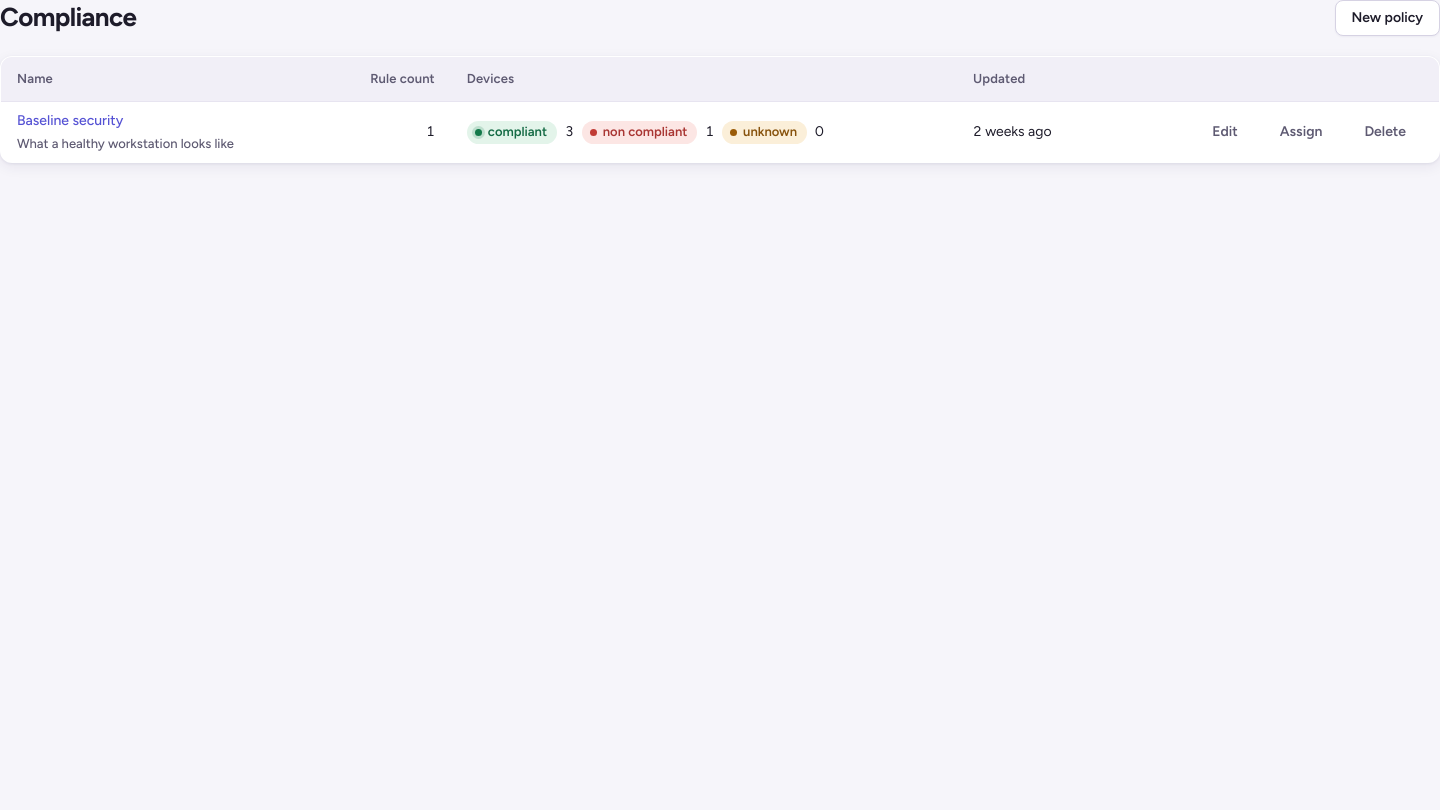
Test: Compliance › keeps a successful save when the re-evaluation fails
Expected: the button "Baseline security" is shown, [17,110,123,132]
Click the button "Edit". click: (1225, 132)
box: [1195,114,1255,150]
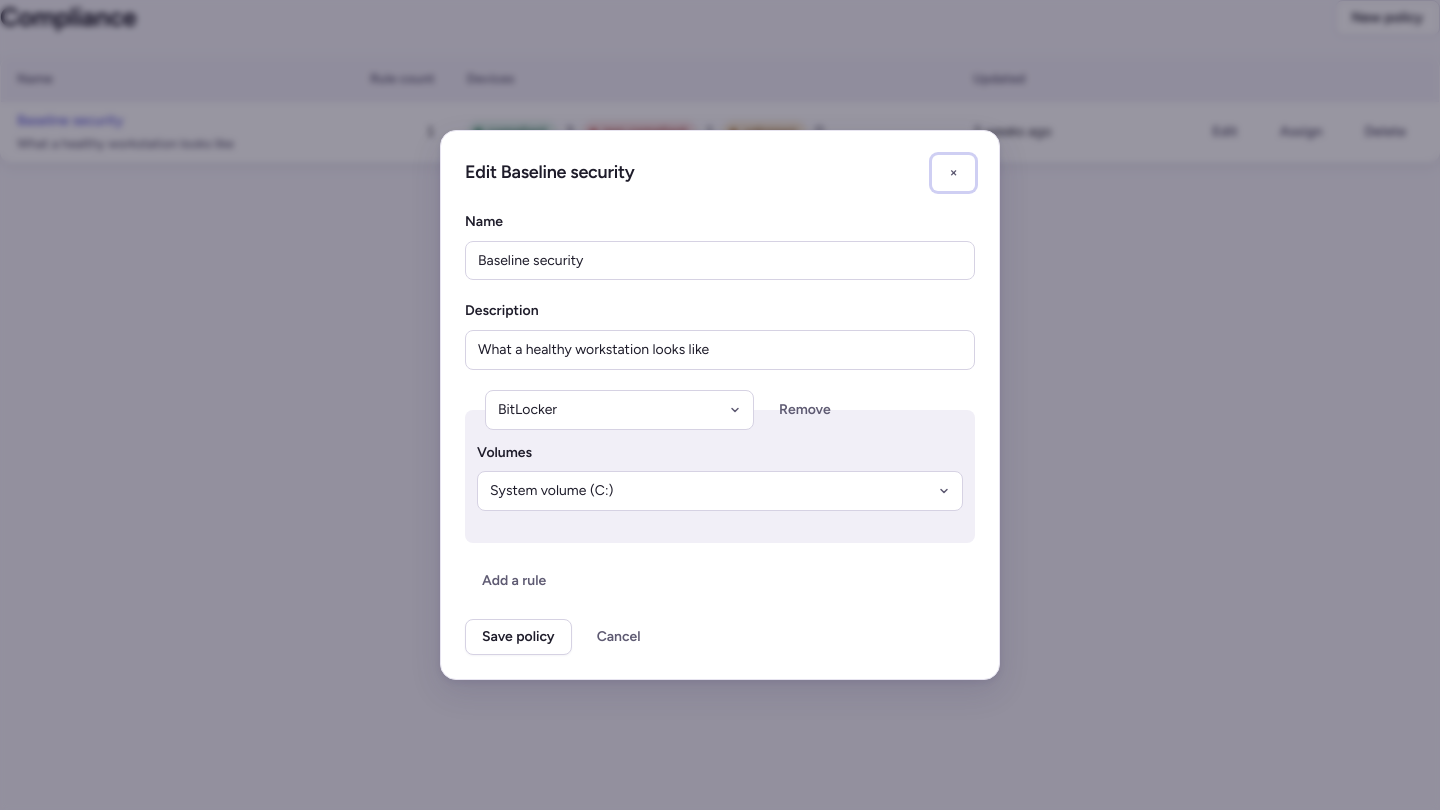
Click the button "Save policy". click: (518, 637)
box: [465,619,572,655]
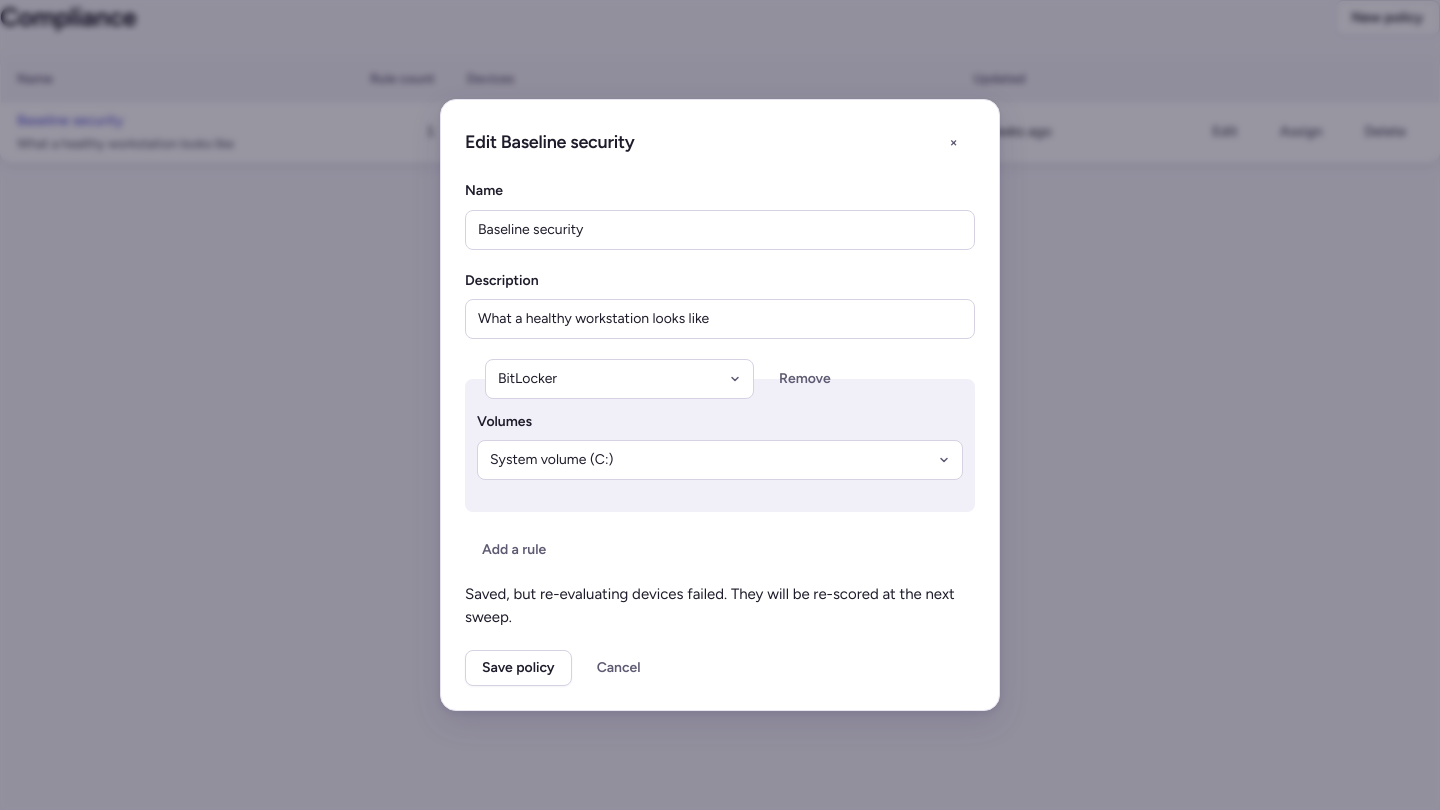
Result: the text "Saved, but re-evaluating devices failed" is shown at [465,585,955,626]
